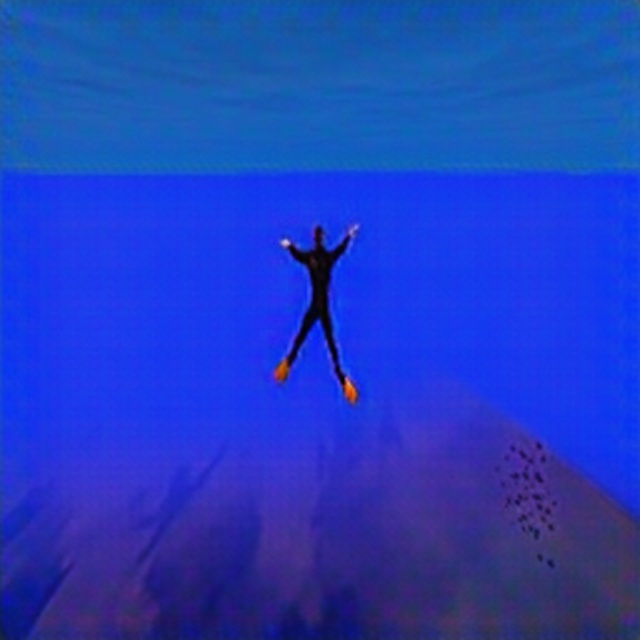diver: (273, 219, 361, 396)
